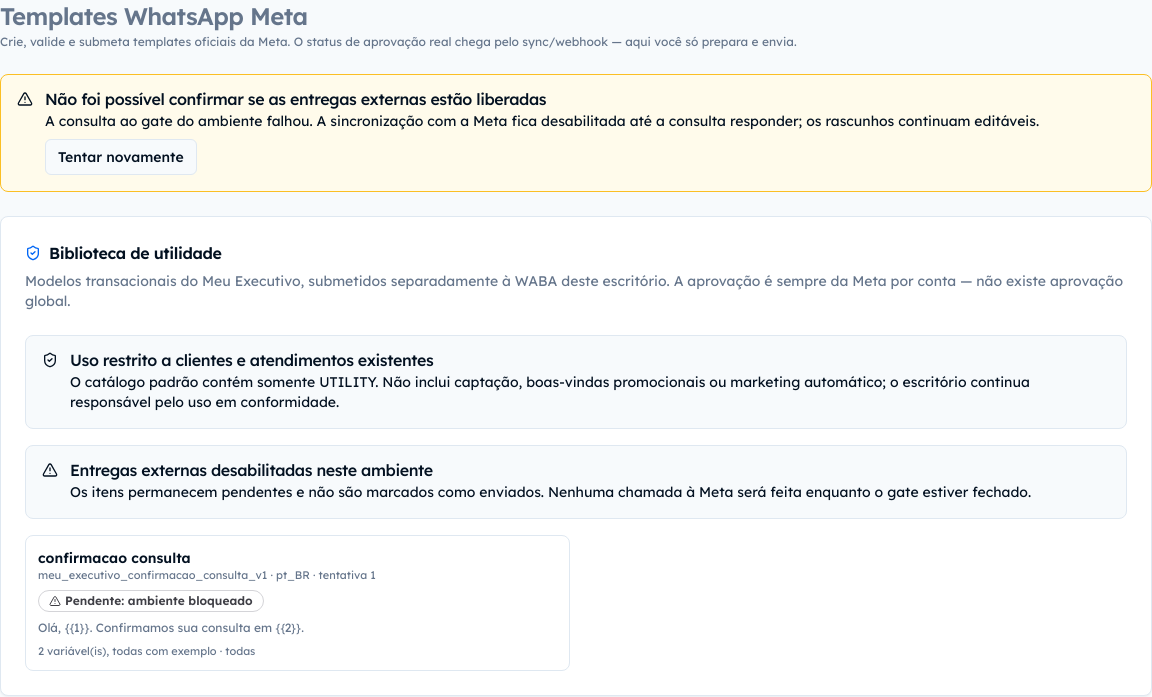
WhatsAppMetaTemplates: estados da lista unificada › avisa que o gate está incerto e desabilita só o sync quando a consulta falha
Check: the heading "Não foi possível confirmar se as entregas externas" is shown, box [45, 89, 546, 109]
Check: the text "submissão real à meta ainda não está liberada" is not shown
Click the button "Tentar novamente" at (121, 157), box [45, 139, 197, 175]
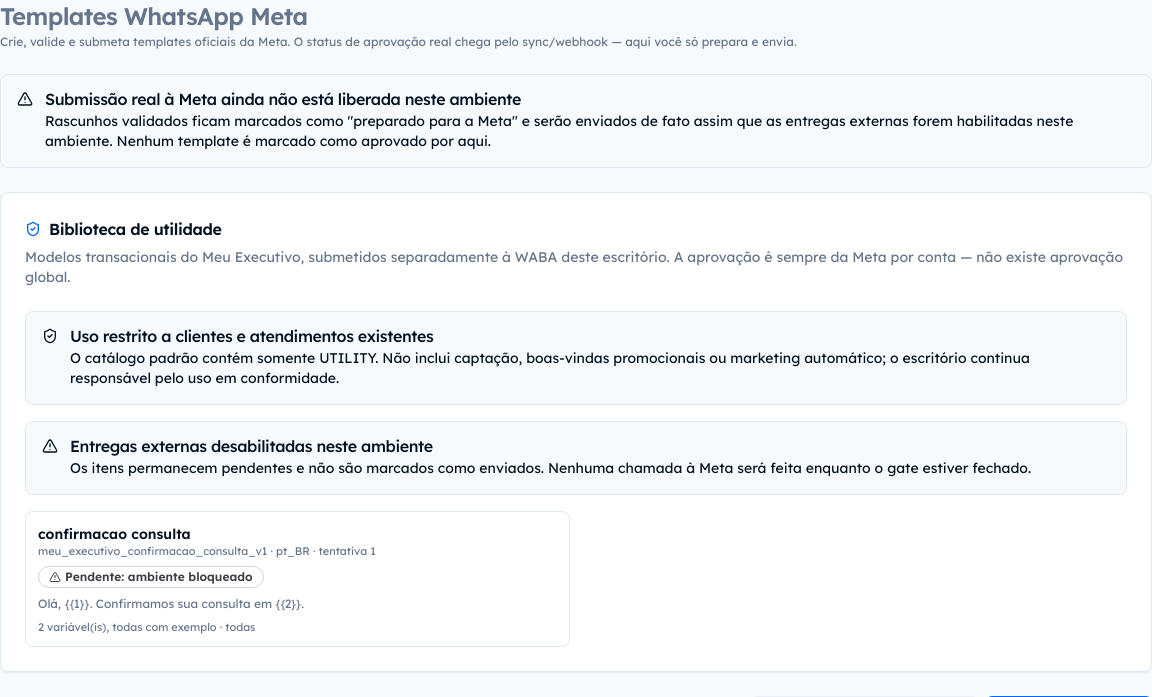
Check: the heading "Submissão real à Meta ainda não está liberada neste ambiente" is shown, box [45, 89, 521, 109]
Check: the heading "Não foi possível confirmar se as entregas externas" is gone
